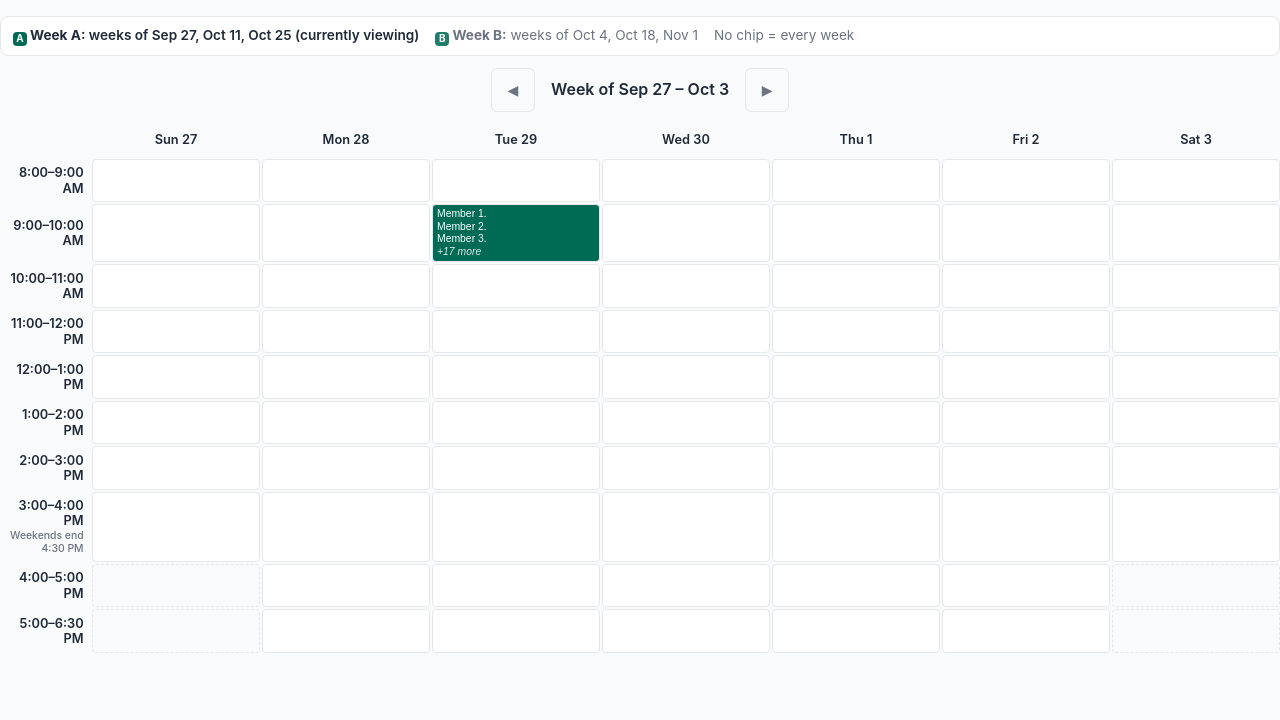
Scenario: ScheduleOverview › renders every member in a long list even though the popover box is height-capped
Click the cell "Member 1. Member 2. Member 3. +17 more" at x=516, y=233, box top-left (432, 204), bottom-right (600, 262)
(page scrolled)
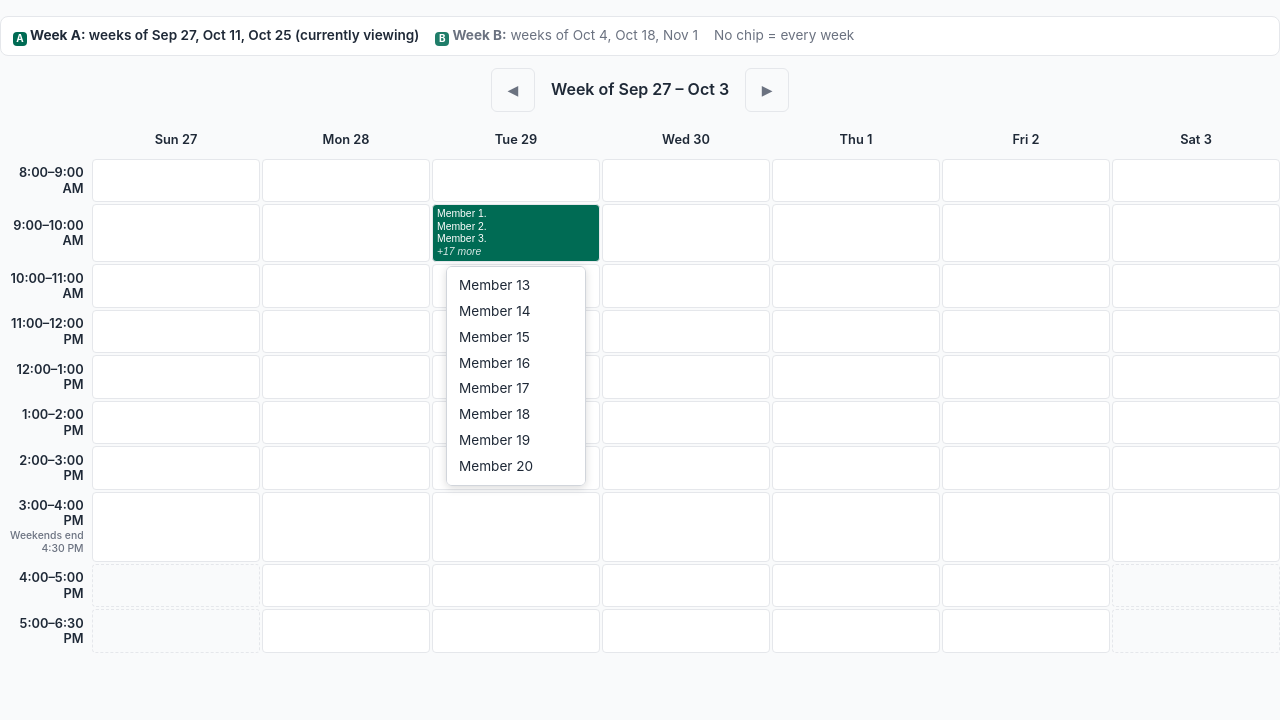
Now the text "Member 20" is shown, box top-left (459, 456), bottom-right (533, 478)
